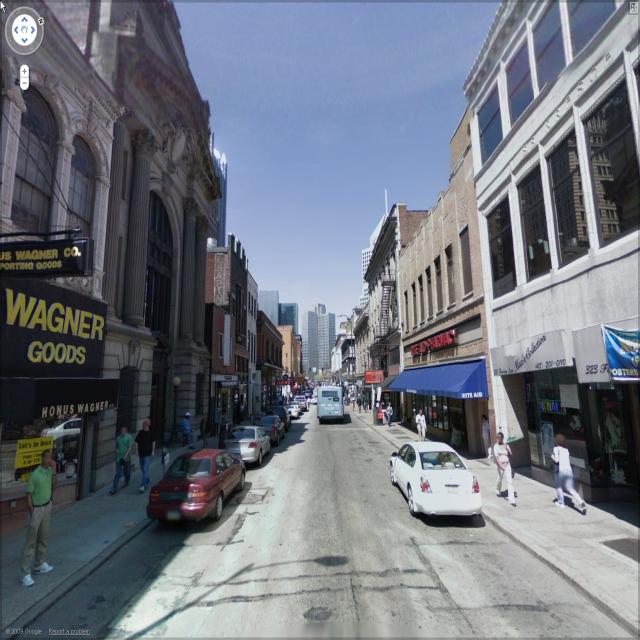b_1: (476, 4, 640, 477), (94, 8, 202, 442), (1, 28, 98, 488), (405, 125, 483, 442), (371, 205, 411, 417), (207, 234, 243, 417), (343, 241, 381, 334), (298, 299, 338, 386), (252, 302, 280, 417), (244, 268, 262, 400), (260, 282, 298, 336), (280, 328, 303, 397)
